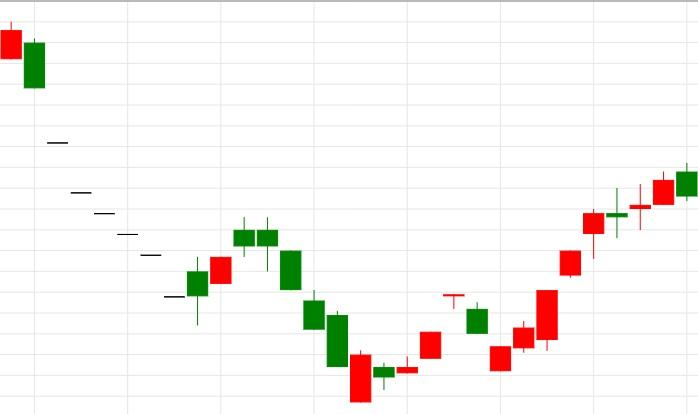three_black_crows_fall: (164, 216, 326, 331)
